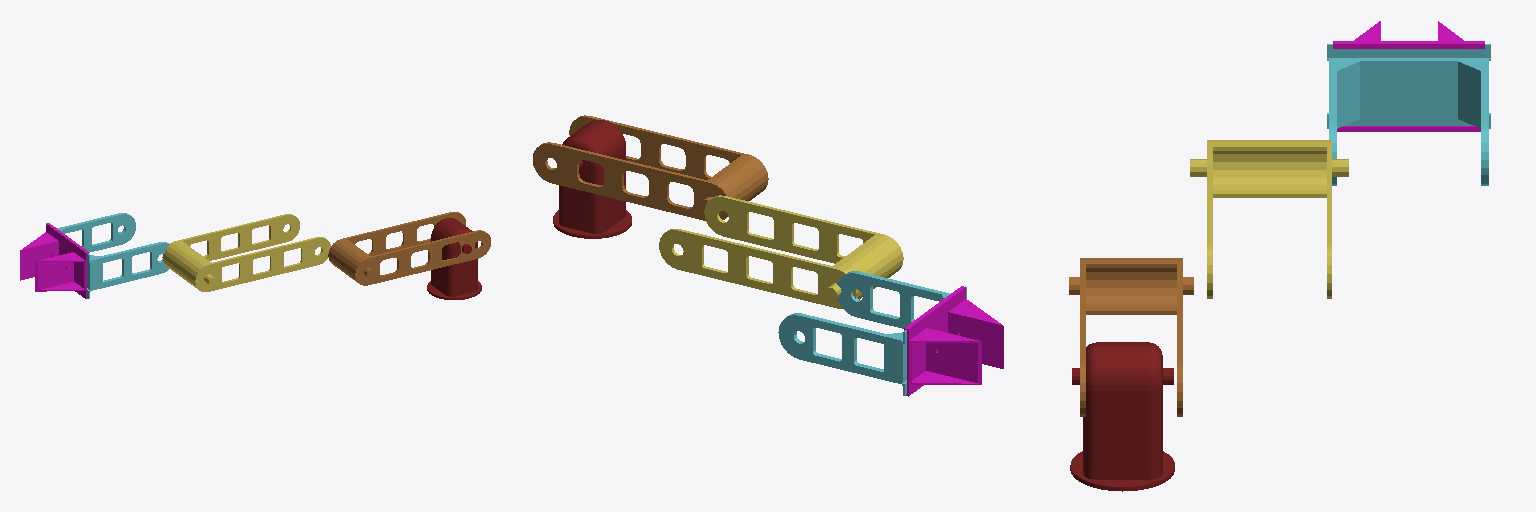
URDF robot description (Robot_URDF_V2):
<?xml version="1.0" encoding="utf-8"?>
<!-- This URDF was automatically created by SolidWorks to URDF Exporter! Originally created by [author] ([email redacted]) 
     Commit Version: 1.6.0-4-g7f85cfe  Build Version: 1.6.7995.38578
     For more information, please see http://wiki.ros.org/sw_urdf_exporter -->
<robot
  name="Robot_URDF_V2">
  <link
    name="Base_Link">
    <inertial>
      <origin
        xyz="-0.023518 -0.010863 0.071827"
        rpy="0 0 0" />
      <mass
        value="233.41" />
      <inertia
        ixx="10.744"
        ixy="0.13376"
        ixz="0.54602"
        iyy="10.299"
        iyz="0.28982"
        izz="11.726" />
    </inertial>
    <visual>
      <origin
        xyz="0 0 0"
        rpy="0 0 0" />
      <geometry>
        <mesh
          filename="package://Robot_URDF_V2/meshes/Base_Link.STL" />
      </geometry>
      <material
        name="">
        <color
          rgba="0.5020 0.5020 0.5020 1" />
      </material>
    </visual>
    <collision>
      <origin
        xyz="0 0 0"
        rpy="0 0 0" />
      <geometry>
        <mesh
          filename="package://Robot_URDF_V2/meshes/Base_Link_Collision.STL" />
      </geometry>
    </collision>
  </link>
  <link
    name="Link_1">
    <inertial>
      <origin
        xyz="-4.4073E-18 1.5631E-19 0.027848"
        rpy="0 0 0" />
      <mass
        value="0.46369" />
      <inertia
        ixx="0.00017765"
        ixy="1.4414E-21"
        ixz="6.4285E-21"
        iyy="0.00016376"
        iyz="-2.9857E-20"
        izz="7.9649E-05" />
    </inertial>
    <visual>
      <origin
        xyz="0 0 0"
        rpy="0 0 0" />
      <geometry>
        <mesh
          filename="package://Robot_URDF_V2/meshes/Link_1.STL" />
      </geometry>
      <material
        name="">
        <color
          rgba="0.51 0.16 0.16 1" />
      </material>
    </visual>
    <collision>
      <origin
        xyz="0 0 0"
        rpy="0 0 0" />
      <geometry>
        <mesh
          filename="package://Robot_URDF_V2/meshes/Link_1_Collision.STL" />
      </geometry>
    </collision>
  </link>
  <joint
    name="Joint1"
    type="revolute">
    <origin
      xyz="0 0 0.09"
      rpy="0 0 0" />
    <parent
      link="Base_Link" />
    <child
      link="Link_1" />
    <axis
      xyz="0 0 -1" />
    <limit
      lower="-1.57"
      upper="1.57"
      effort="10"
      velocity="100" />
  </joint>
  <link
    name="Link_2">
    <inertial>
      <origin
        xyz="-0.06757 -0.0225 0"
        rpy="0 0 0" />
      <mass
        value="0.11993" />
      <inertia
        ixx="5.3919E-05"
        ixy="4.9011E-20"
        ixz="1.5608E-20"
        iyy="0.00022432"
        iyz="-1.7508E-21"
        izz="0.00026271" />
    </inertial>
    <visual>
      <origin
        xyz="0 0 0"
        rpy="0 0 0" />
      <geometry>
        <mesh
          filename="package://Robot_URDF_V2/meshes/Link_2.STL" />
      </geometry>
      <material
        name="">
        <color
          rgba="0.682 0.471 0.255 1" />
      </material>
    </visual>
    <collision>
      <origin
        xyz="0 0 0"
        rpy="0 0 0" />
      <geometry>
        <mesh
          filename="package://Robot_URDF_V2/meshes/Link_2_Collision.STL" />
      </geometry>
    </collision>
  </link>
  <joint
    name="Joint2"
    type="revolute">
    <origin
      xyz="0 0.0225 0.045"
      rpy="0 0 0" />
    <parent
      link="Link_1" />
    <child
      link="Link_2" />
    <axis
      xyz="-3.1128E-05 -1 0" />
    <limit
      lower="-1.57"
      upper="1.57"
      effort="10"
      velocity="100" />
  </joint>
  <link
    name="Link_3">
    <inertial>
      <origin
        xyz="-0.07128 -0.0275 2.7756E-17"
        rpy="0 0 0" />
      <mass
        value="0.12851" />
      <inertia
        ixx="8.1361E-05"
        ixy="7.4551E-20"
        ixz="-2.1216E-20"
        iyy="0.00023943"
        iyz="4.5146E-20"
        izz="0.00030386" />
    </inertial>
    <visual>
      <origin
        xyz="0 0 0"
        rpy="0 0 0" />
      <geometry>
        <mesh
          filename="package://Robot_URDF_V2/meshes/Link_3.STL" />
      </geometry>
      <material
        name="">
        <color
          rgba="0.824 0.765 0.353 1" />
      </material>
    </visual>
    <collision>
      <origin
        xyz="0 0 0"
        rpy="0 0 0" />
      <geometry>
        <mesh
          filename="package://Robot_URDF_V2/meshes/Link_3_Collision.STL" />
      </geometry>
    </collision>
  </link>
  <joint
    name="Joint3"
    type="revolute">
    <origin
      xyz="-0.107 0.005 0"
      rpy="0 0 0" />
    <parent
      link="Link_2" />
    <child
      link="Link_3" />
    <axis
      xyz="-3.1128E-05 -1 0" />
    <limit
      lower="-1.57"
      upper="1.57"
      effort="10"
      velocity="100" />
  </joint>
  <link
    name="Link_4">
    <inertial>
      <origin
        xyz="-0.045271 -0.035 5.5511E-17"
        rpy="0 0 0" />
      <mass
        value="0.14501" />
      <inertia
        ixx="0.00013446"
        ixy="-2.071E-20"
        ixz="1.1735E-20"
        iyy="0.00012072"
        iyz="-3.1335E-21"
        izz="0.00022946" />
    </inertial>
    <visual>
      <origin
        xyz="0 0 0"
        rpy="0 0 0" />
      <geometry>
        <mesh
          filename="package://Robot_URDF_V2/meshes/Link_4.STL" />
      </geometry>
      <material
        name="">
        <color
          rgba="0.431 0.784 0.824 1" />
      </material>
    </visual>
    <collision>
      <origin
        xyz="0 0 0"
        rpy="0 0 0" />
      <geometry>
        <mesh
          filename="package://Robot_URDF_V2/meshes/Link_4_Collision.STL" />
      </geometry>
    </collision>
  </link>
  <joint
    name="Joint4"
    type="revolute">
    <origin
      xyz="-0.107 0.0075 0"
      rpy="0 0 0" />
    <parent
      link="Link_3" />
    <child
      link="Link_4" />
    <axis
      xyz="3.1128E-05 1 0" />
    <limit
      lower="-1.57"
      upper="1.57"
      effort="10"
      velocity="100" />
  </joint>
  <link
    name="End_Effector">
    <inertial>
      <origin
        xyz="-0.0018349 0.0057553 -1.3167E-06"
        rpy="0 0 0" />
      <mass
        value="0.053442" />
      <inertia
        ixx="2.5712E-05"
        ixy="4.7686E-21"
        ixz="2.1927E-13"
        iyy="1.4367E-05"
        iyz="9.0507E-22"
        izz="2.3859E-05" />
    </inertial>
    <visual>
      <origin
        xyz="0 0 0"
        rpy="0 0 0" />
      <geometry>
        <mesh
          filename="package://Robot_URDF_V2/meshes/End_Effector.STL" />
      </geometry>
      <material
        name="">
        <color
          rgba="0.863 0.118 0.784 1" />
      </material>
    </visual>
    <collision>
      <origin
        xyz="0 0 0"
        rpy="0 0 0" />
      <geometry>
        <mesh
          filename="package://Robot_URDF_V2/meshes/End_Effector_Collision.STL" />
      </geometry>
    </collision>
  </link>
  <joint
    name="Joint5"
    type="fixed">
    <origin
      xyz="-0.096573 0.10382 0"
      rpy="0 0 0" />
    <parent
      link="Link_4" />
    <child
      link="End_Effector" />
    <axis
      xyz="0 0 0" />
  </joint>
</robot>

--- What the picture shows (computed from the rendered views, not written in the file) ---
The picture shows the robot from 3 angles, left to right: view 1: azimuth 30°, elevation 25°; view 2: azimuth 150°, elevation 25°; view 3: azimuth 270°, elevation 25°; orthographic projection.
Model Robot_URDF_V2 with 6 links and 5 joints (4 revolute, 1 fixed), rooted at Base_Link, posed every joint at zero.
Visible links, largest first — view 1: Link_3, Link_2, End_Effector, Link_4, Link_1; view 2: Link_3, Link_2, Link_4, End_Effector, Link_1; view 3: Link_4, Link_1, Link_3, Link_2, End_Effector.
Boxes of the visible links, box(x1,y1,x2,y2) form: Link_3: box(162, 214, 330, 291); Link_2: box(328, 212, 490, 285); End_Effector: box(20, 223, 88, 298); Link_4: box(46, 213, 169, 298); Link_1: box(427, 218, 481, 299); Link_3: box(659, 195, 903, 308); Link_2: box(533, 115, 768, 220); Link_4: box(778, 271, 966, 395); End_Effector: box(904, 286, 1003, 396); Link_1: box(553, 120, 631, 238); Link_4: box(1327, 44, 1490, 185); Link_1: box(1070, 342, 1174, 491); Link_3: box(1190, 140, 1348, 298); Link_2: box(1069, 258, 1193, 416); End_Effector: box(1333, 21, 1484, 131).
Size in the robot's own frame: 0.3653 by 0.1855 by 0.0675 metres.
Meshes: 6 distinct files referenced, 5 mesh visuals loaded (5 binary STL); not drawn: 1 (reference not matched to a file when rendering).